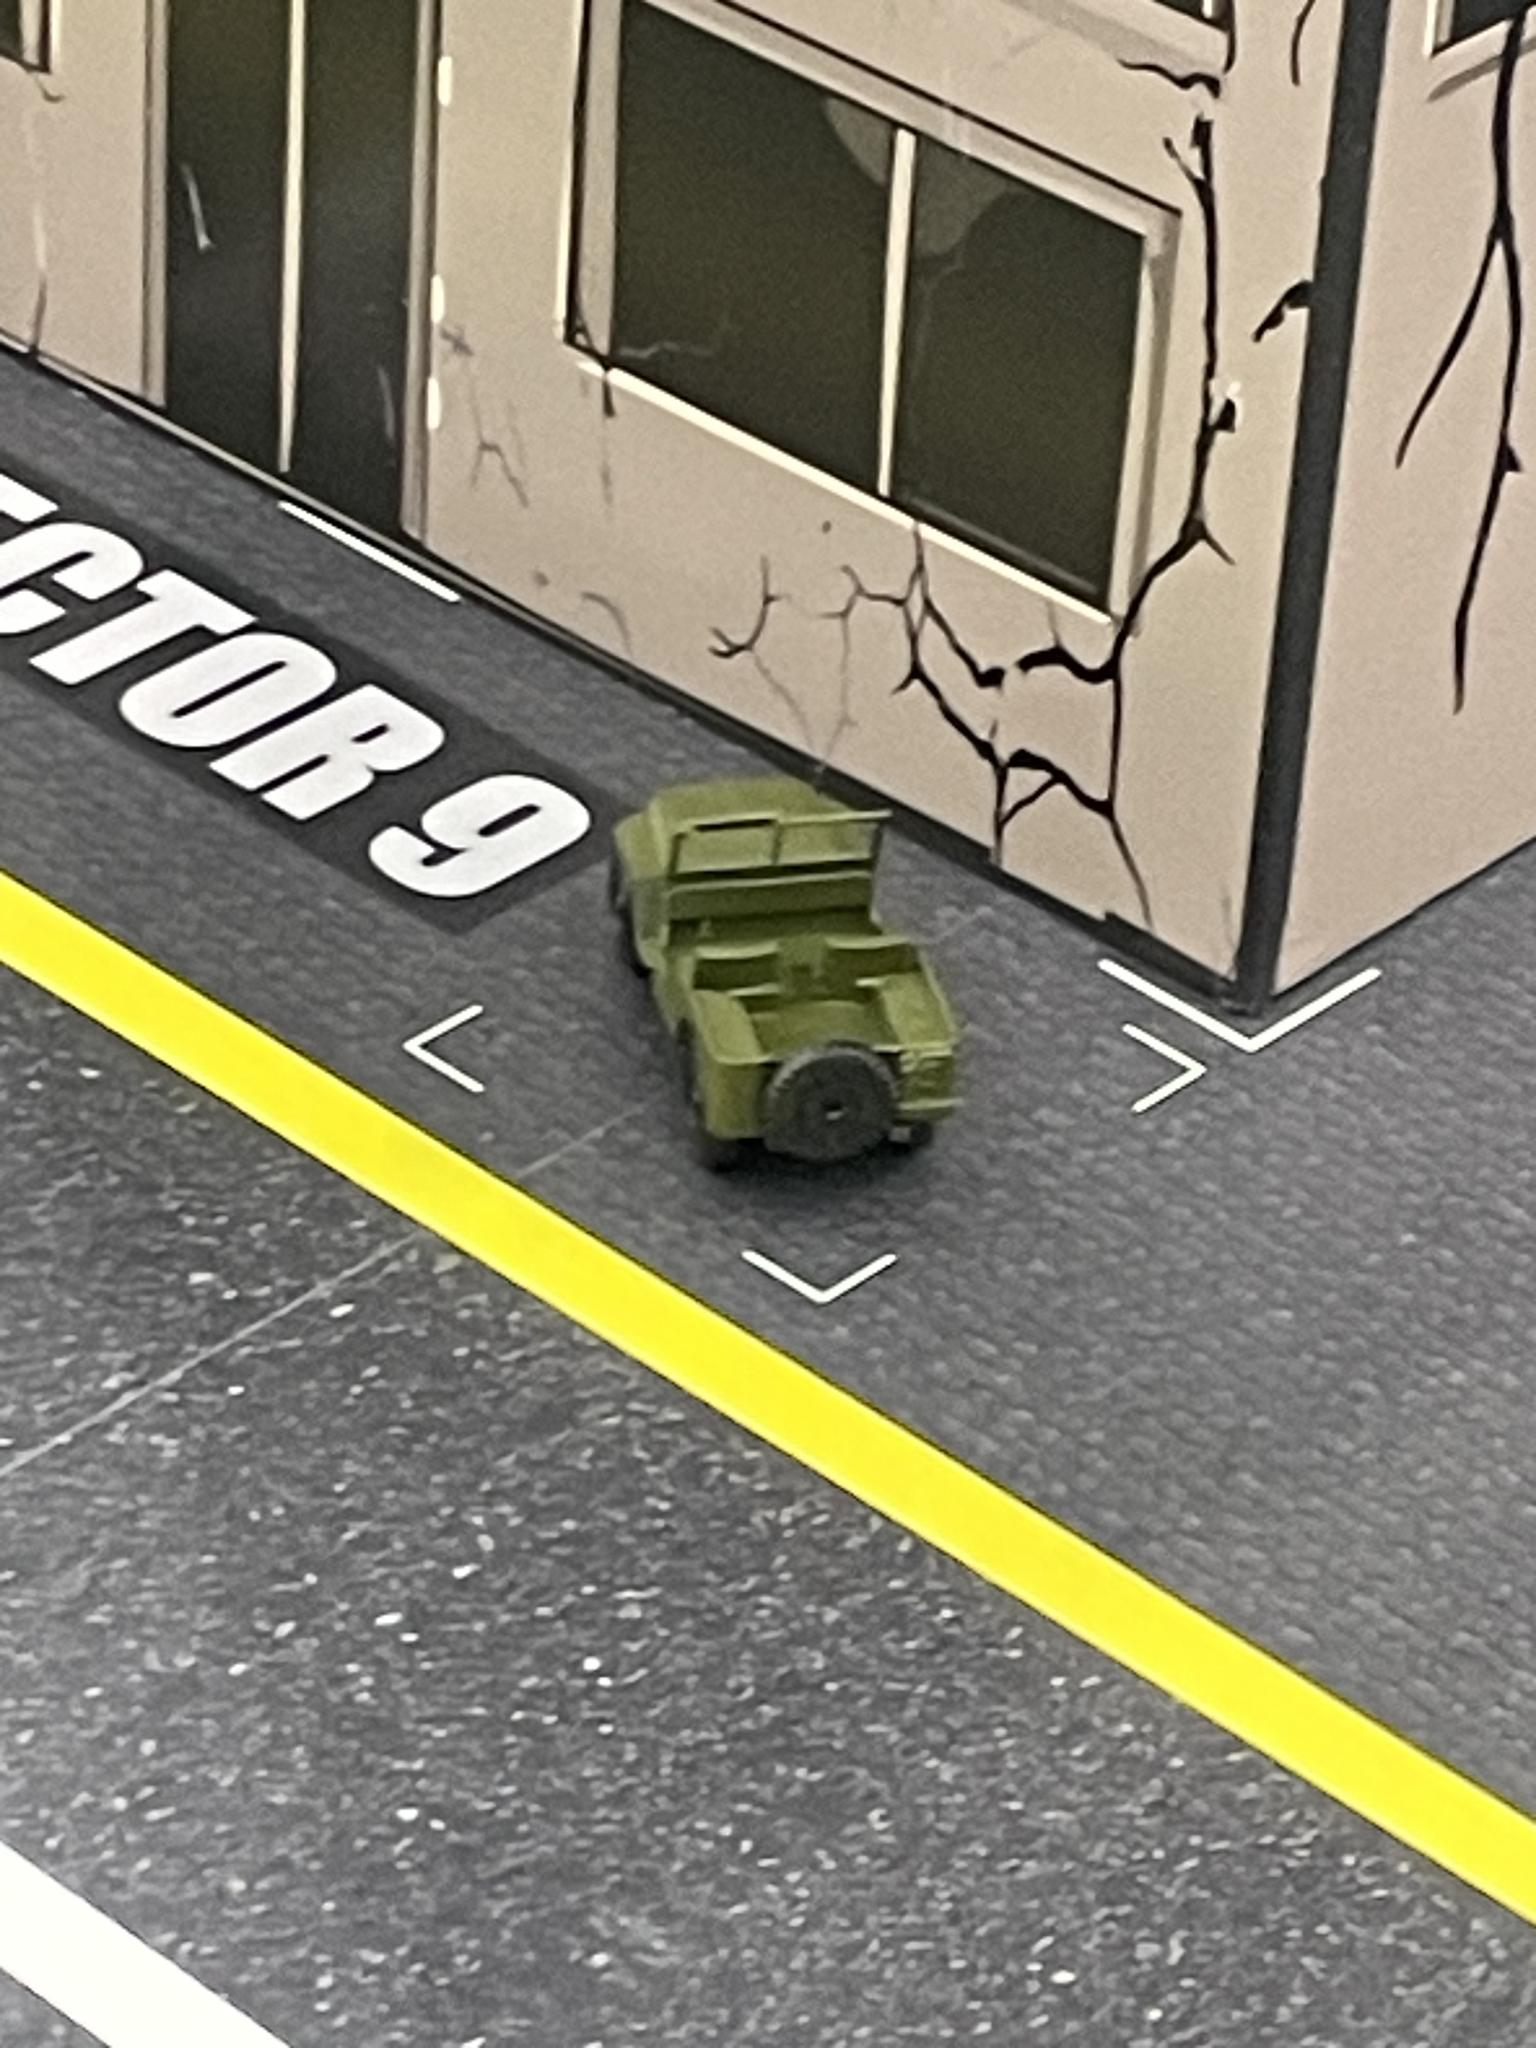Car: (592, 747, 973, 1206)
